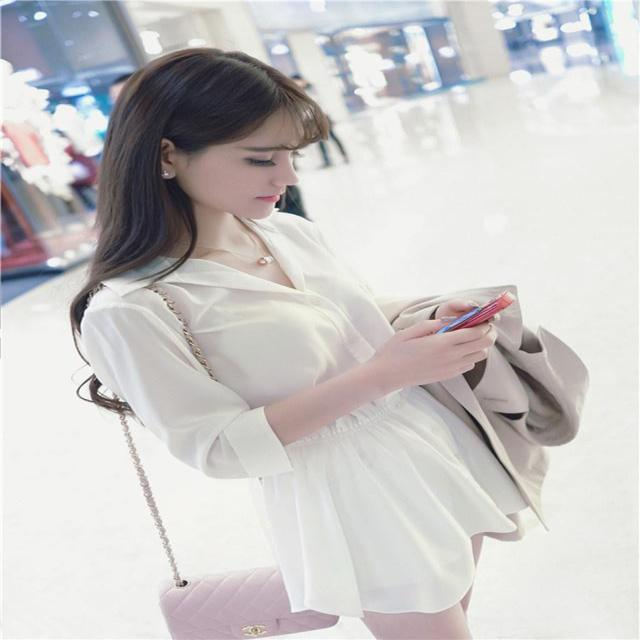long-sleeve-outwear: (66, 245, 534, 604)
